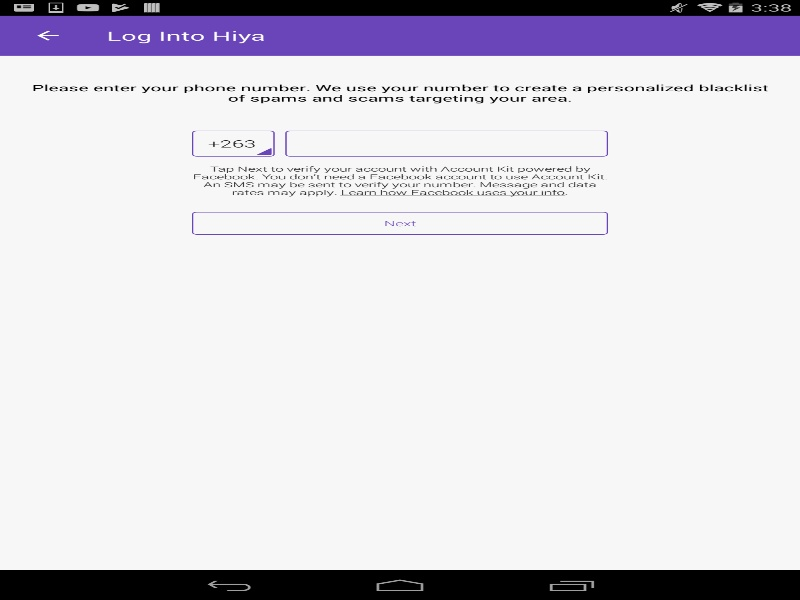Button: (192, 211, 608, 234), (10, 15, 85, 55)
Input: (285, 130, 608, 156)
